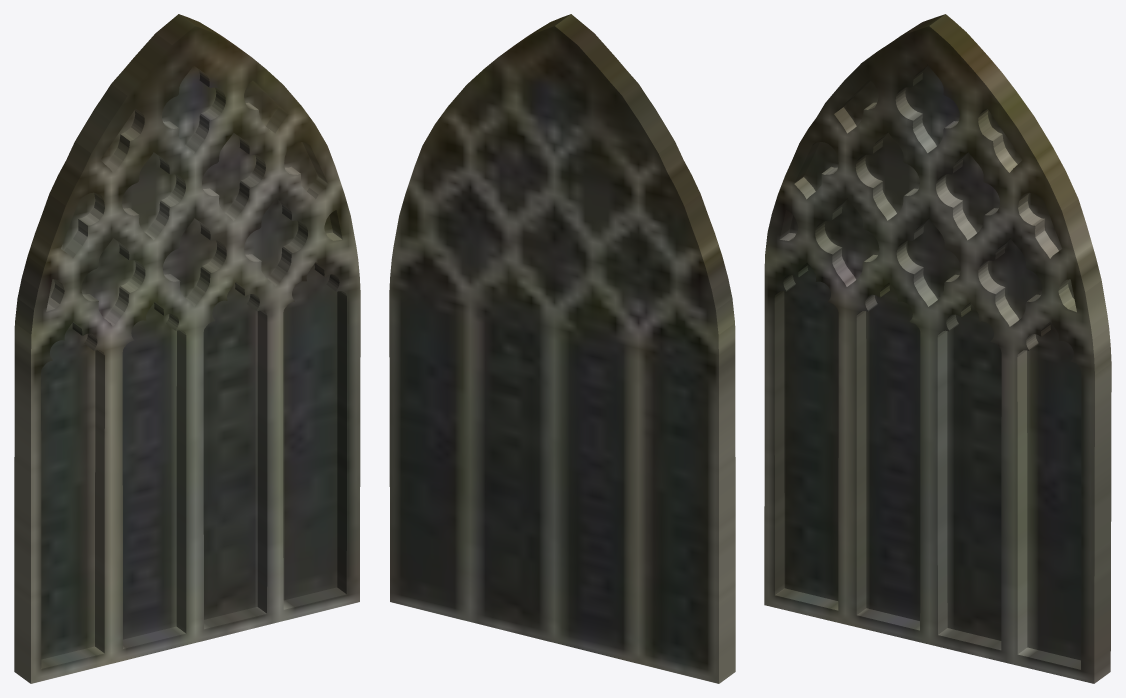
Rendered from win1.glb.
3 renders of one model, left to right at view 1: azimuth 30°, elevation 25°; view 2: azimuth 150°, elevation 25°; view 3: azimuth 330°, elevation 25°, orthographic.
Visible parts, largest first — view 1: frame_window_0; view 2: frame_window_0; view 3: frame_window_0.
Part boxes in pixels (x1,y1,x2,y2): frame_window_0: (14, 14, 360, 683); frame_window_0: (389, 14, 735, 683); frame_window_0: (764, 14, 1111, 683).
Bounding box in the file's own units: 2.14 × 3.82 × 0.1852.
1 material, 1 textured.
